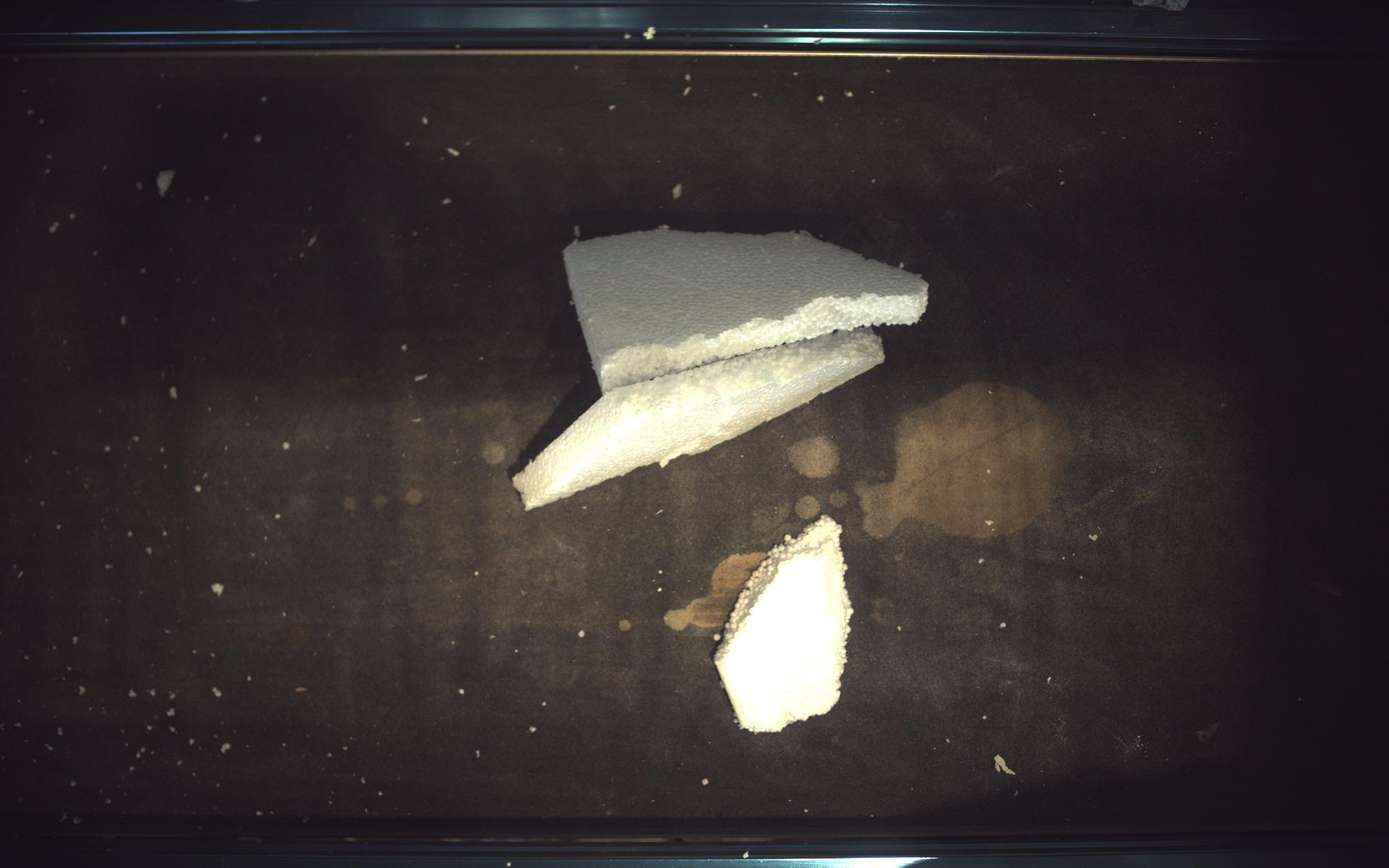foam: (514, 329, 885, 510), (564, 228, 930, 393), (716, 517, 854, 733)
